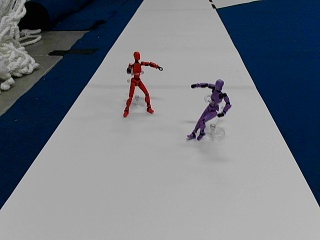pedestrian: (123, 51, 162, 116), (188, 79, 229, 140)
